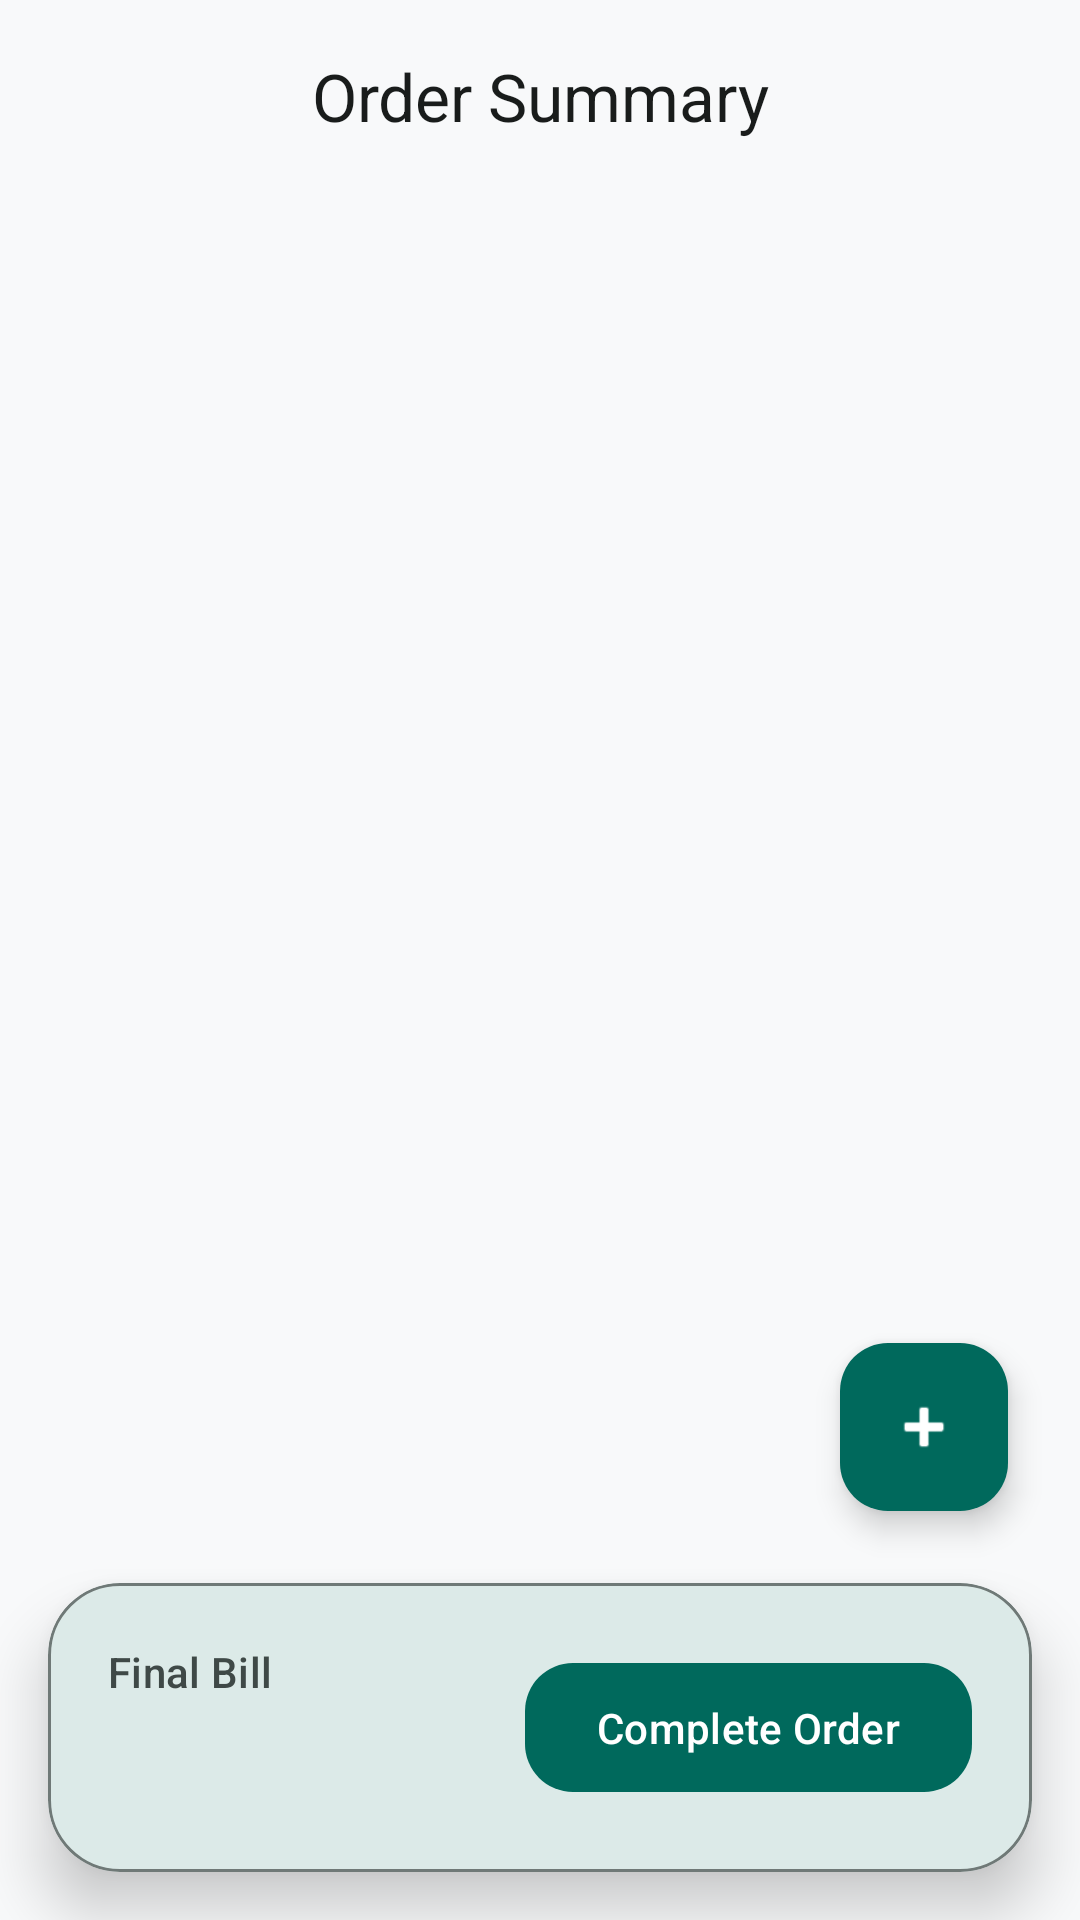

Where to tap for icons on this 1080 × 1920 app screen, as point (x, y):
Add Item: point (924, 1427)
